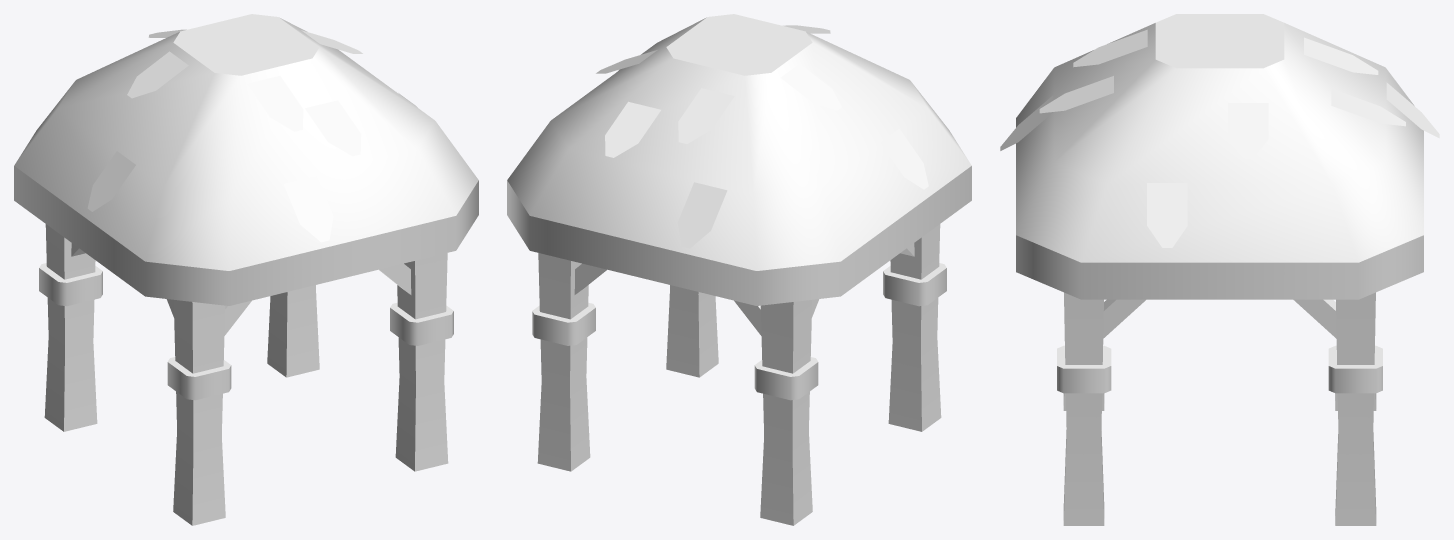
The model's file is structure-roof.glb.
3 views of the same model, side by side, from view 1: azimuth 30°, elevation 25°; view 2: azimuth 150°, elevation 25°; view 3: azimuth 270°, elevation 25° (orthographic). The views are drawn at different scales.
Visible parts, largest first — view 1: structure-roof; view 2: structure-roof; view 3: structure-roof.
Boxes of the visible parts, x1=… form: structure-roof: x1=14, y1=14, x2=478, y2=525; structure-roof: x1=507, y1=14, x2=971, y2=525; structure-roof: x1=1000, y1=14, x2=1439, y2=525.
Bounding box in the file's own units: 3.09 × 3.4 × 3.23.
1 material, 1 textured.
